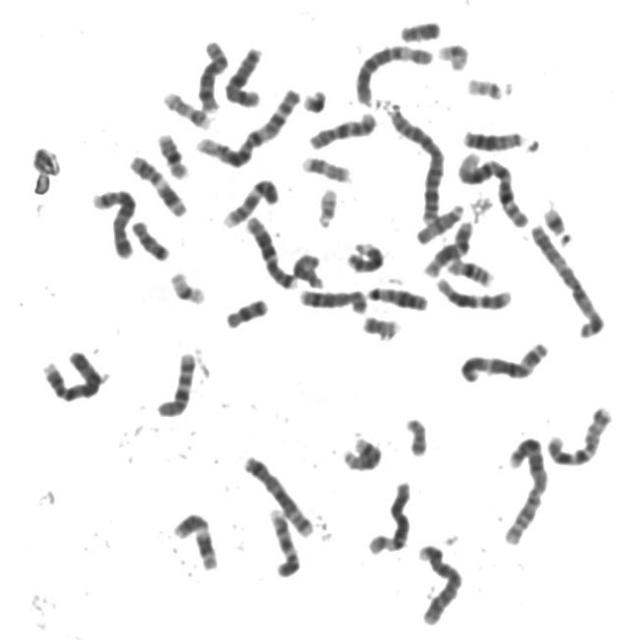A1: (193, 82, 303, 169), (452, 144, 533, 229)
A2: (383, 99, 448, 225), (497, 428, 553, 546)
A3: (526, 216, 609, 339), (455, 334, 553, 385)
B4: (412, 538, 467, 628), (37, 342, 108, 403)
B5: (239, 448, 318, 539), (86, 182, 140, 260)
C10: (304, 104, 382, 151), (153, 344, 200, 419)
C11: (124, 147, 190, 219), (169, 505, 223, 573)
C12: (419, 215, 477, 279), (432, 272, 515, 312)
C6: (350, 36, 437, 106), (364, 474, 415, 556)
C7: (543, 398, 616, 468), (242, 208, 301, 290)
C8: (192, 32, 233, 114), (295, 281, 371, 315)
C9: (218, 170, 282, 229), (264, 502, 303, 579)
D13: (459, 121, 532, 152), (363, 279, 431, 312)
D14: (338, 429, 386, 473), (343, 234, 387, 274)
D15: (411, 197, 468, 246), (286, 246, 328, 288)
E16: (153, 126, 192, 180), (443, 251, 498, 288)
E17: (158, 84, 215, 130), (298, 148, 356, 185)
E18: (127, 214, 173, 262), (221, 290, 271, 330)
F19: (165, 263, 210, 306), (433, 36, 473, 72)
F20: (400, 409, 432, 458), (358, 308, 403, 340)
G21: (539, 198, 576, 245), (298, 82, 330, 114)
G22: (312, 180, 342, 230), (463, 70, 513, 100)
X: (220, 39, 266, 109)
Y: (395, 13, 444, 42)
